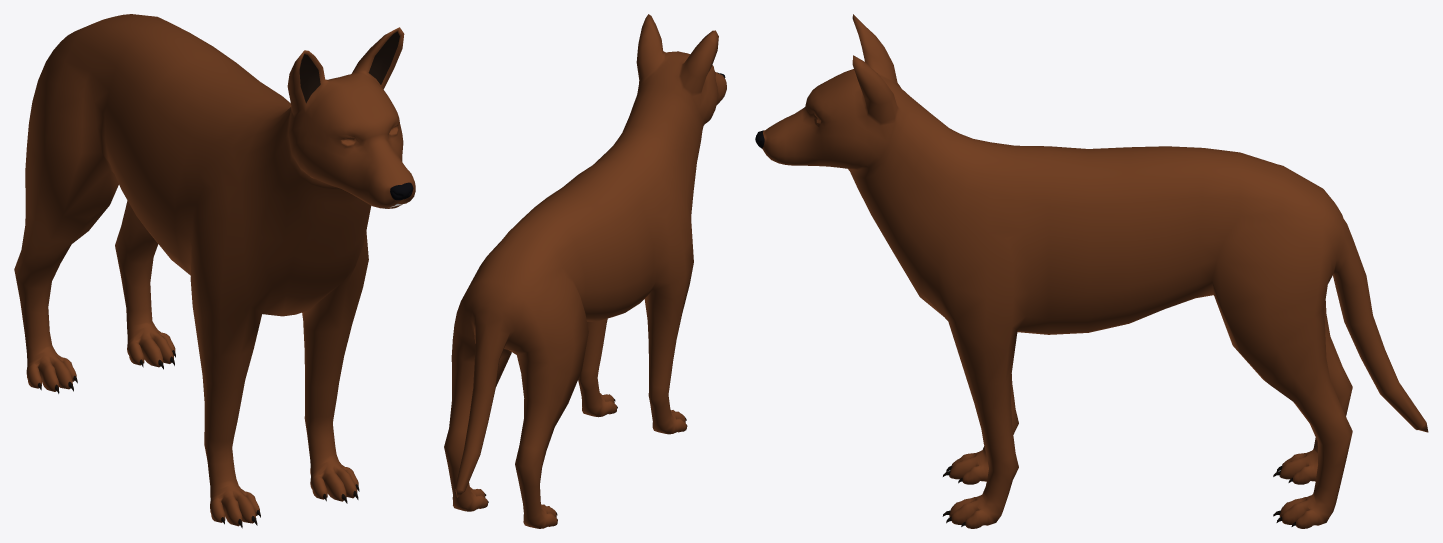
Rendered from dog_dog.obj.
3 renders of one model, left to right at view 1: azimuth 30°, elevation 25°; view 2: azimuth 150°, elevation 25°; view 3: azimuth 270°, elevation 25°, orthographic. The views are drawn at different scales.
Visible parts, largest first — view 1: dog; view 2: dog; view 3: dog.
Boxes of the visible parts, x1,y1,x2,y2 form: dog: (14,14,415,528); dog: (444,14,726,528); dog: (755,14,1428,528).
Bounding box in the file's own units: 0.282 × 0.8789 × 1.15.
